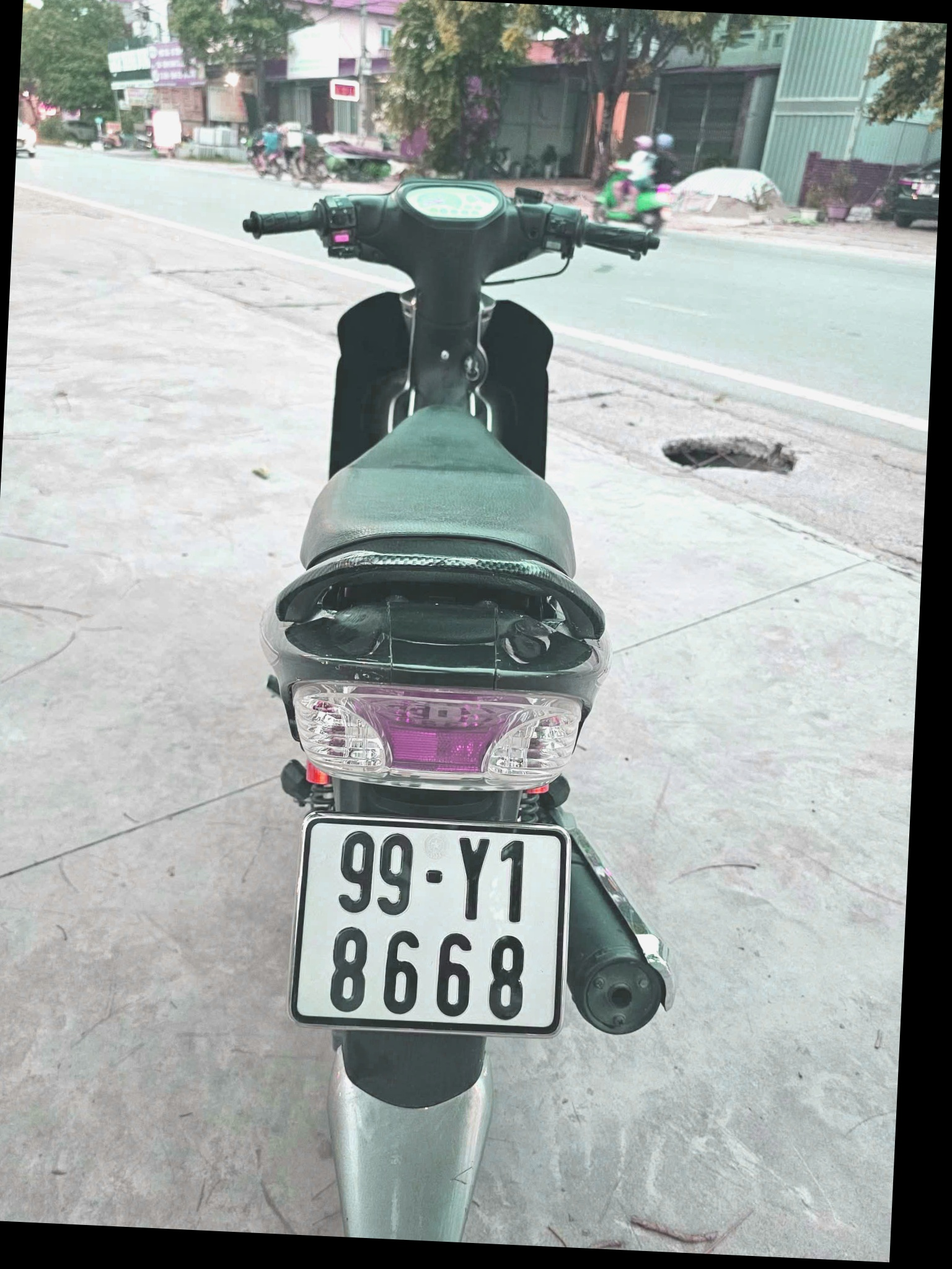Bien-so: (326, 792, 638, 1021)
